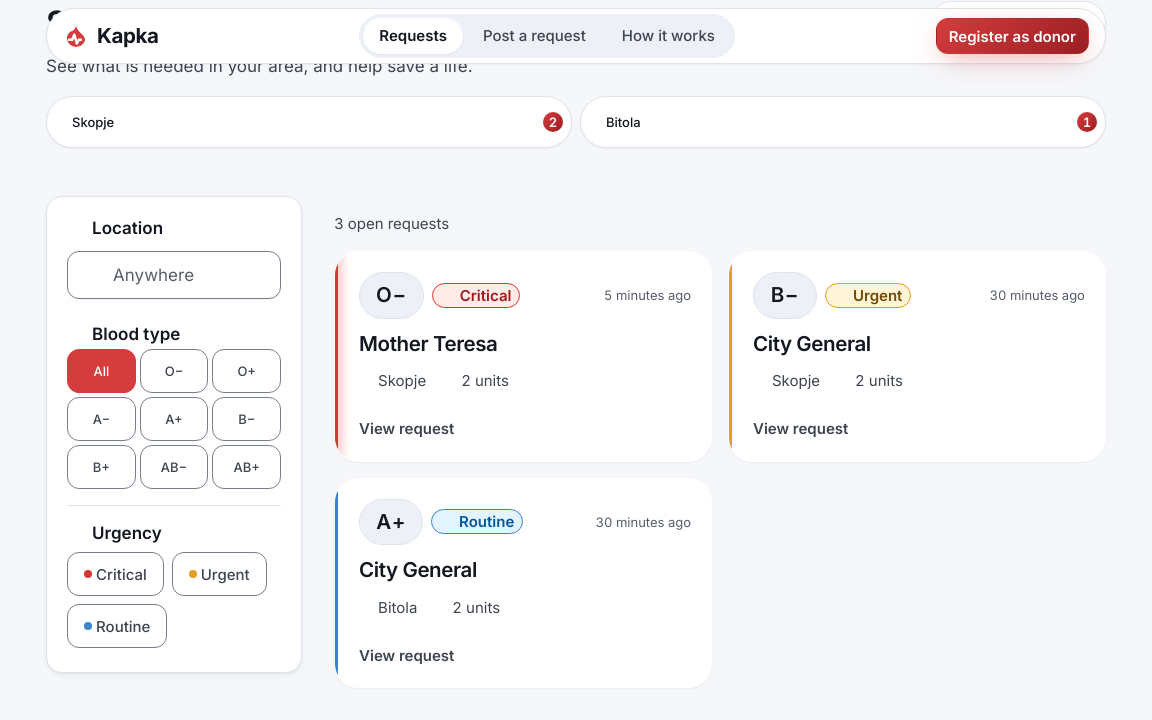
the public feed › offers a way back when the filters match nothing
The image size is (1152, 720).
(page scrolled)
expect the text "3 open requests" is shown: met, box top-left (334, 214), bottom-right (449, 233)
Click the button "Critical" at (115, 574), box top-left (67, 552), bottom-right (164, 596)
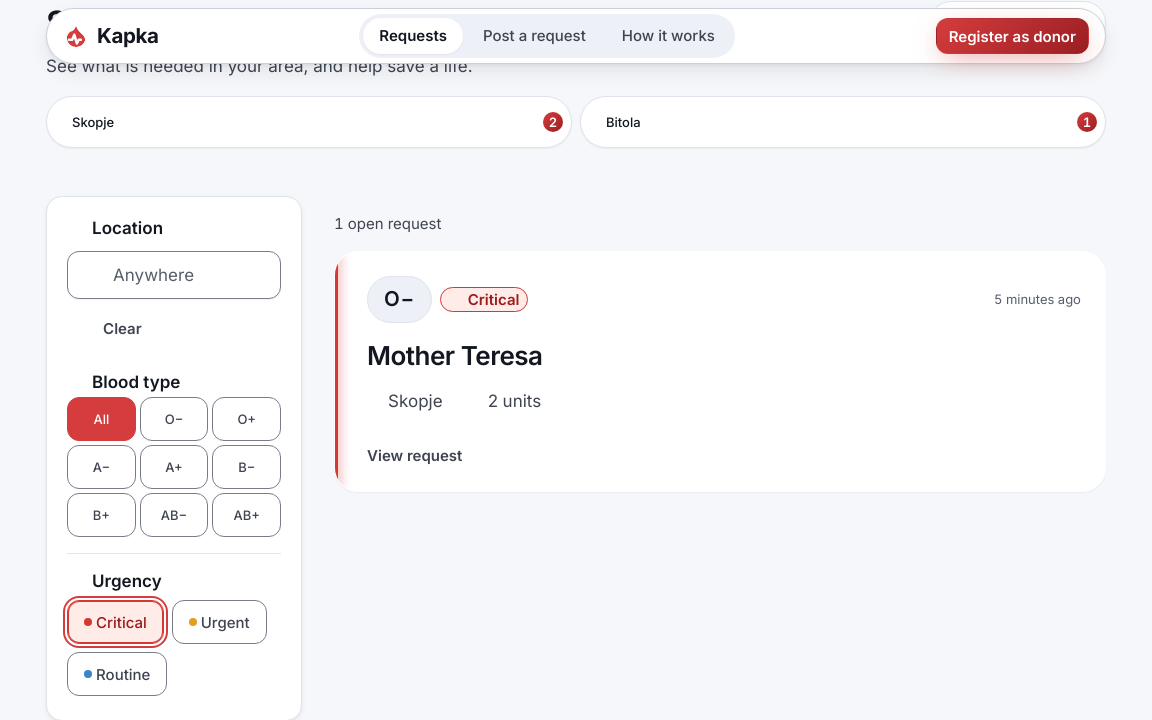
Click the dropdown named "Location" at (174, 275), box top-left (67, 251), bottom-right (281, 299)
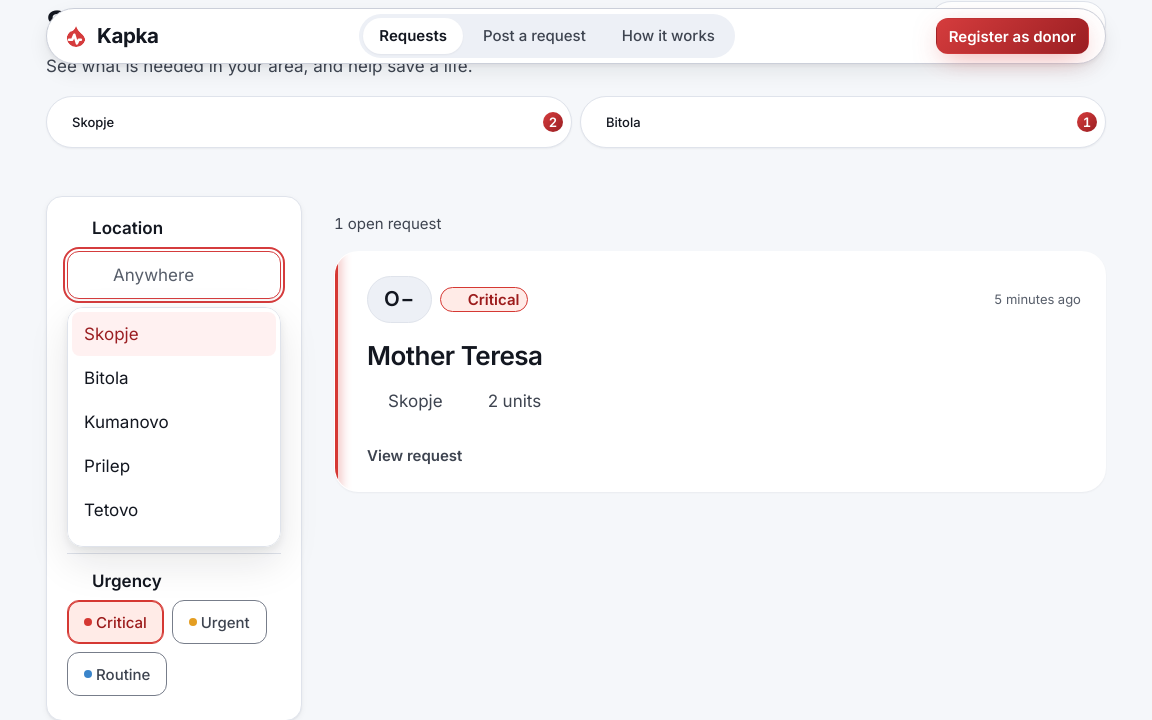
Click the option "Bitola" at (106, 378), box top-left (84, 368), bottom-right (129, 388)
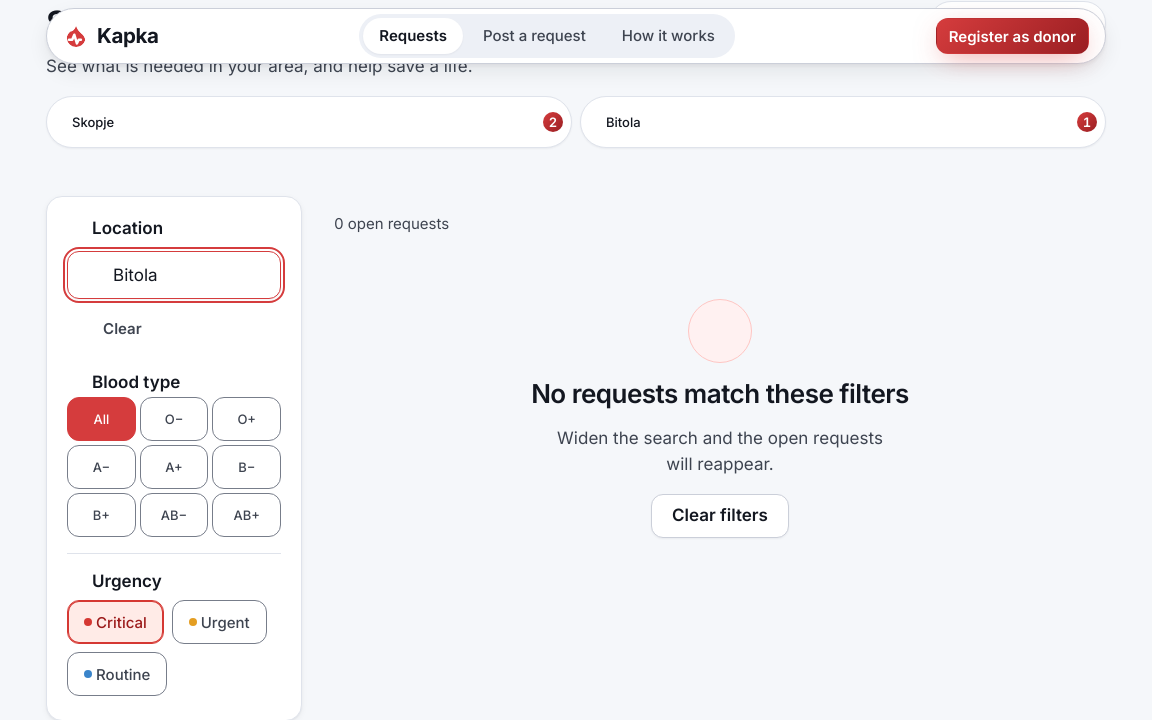
expect the heading "No requests match these filters" is shown: met, box top-left (531, 379), bottom-right (909, 409)
Click the button "Clear filters" at (720, 516), box top-left (651, 494), bottom-right (789, 538)
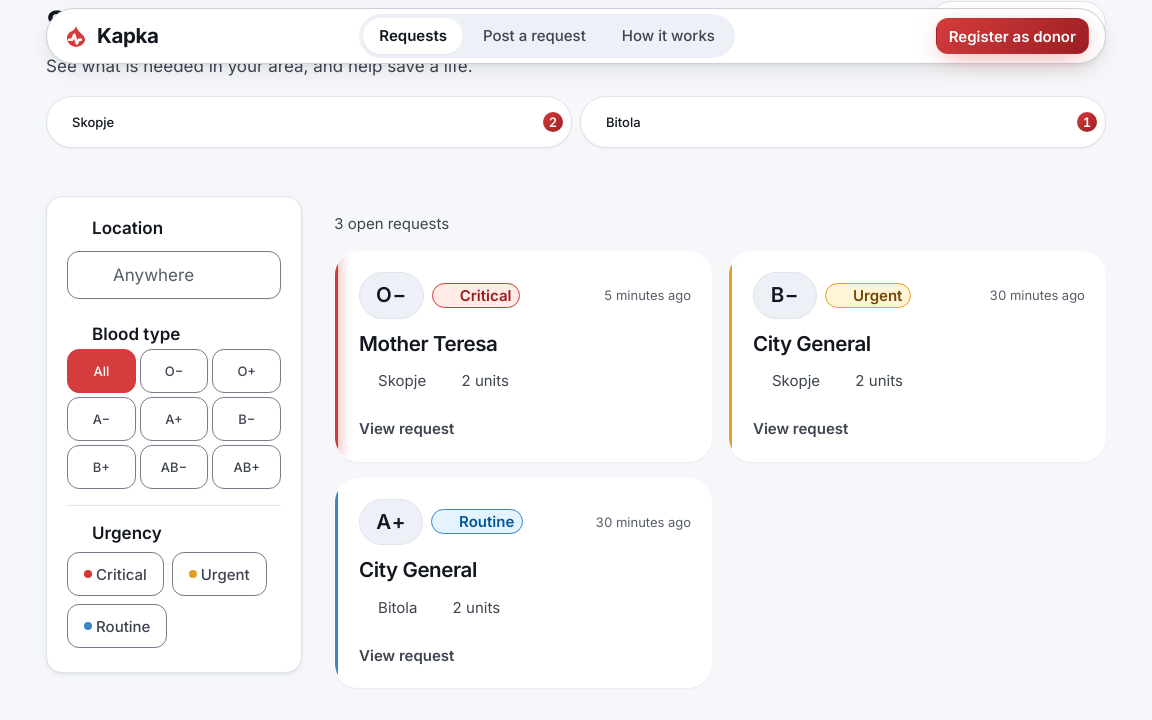
expect the text "3 open requests" is shown: met, box top-left (334, 214), bottom-right (449, 233)
